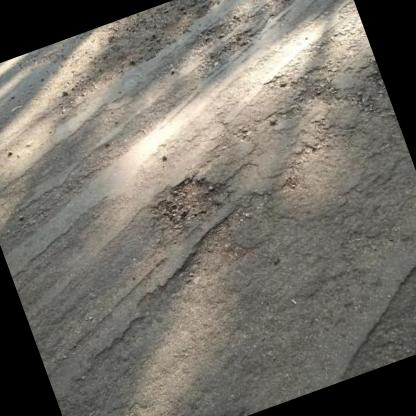pothole: (142, 164, 236, 235)
